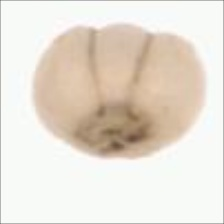L5: (82, 21, 161, 111), (64, 100, 166, 159)
L6: (33, 20, 211, 162)
